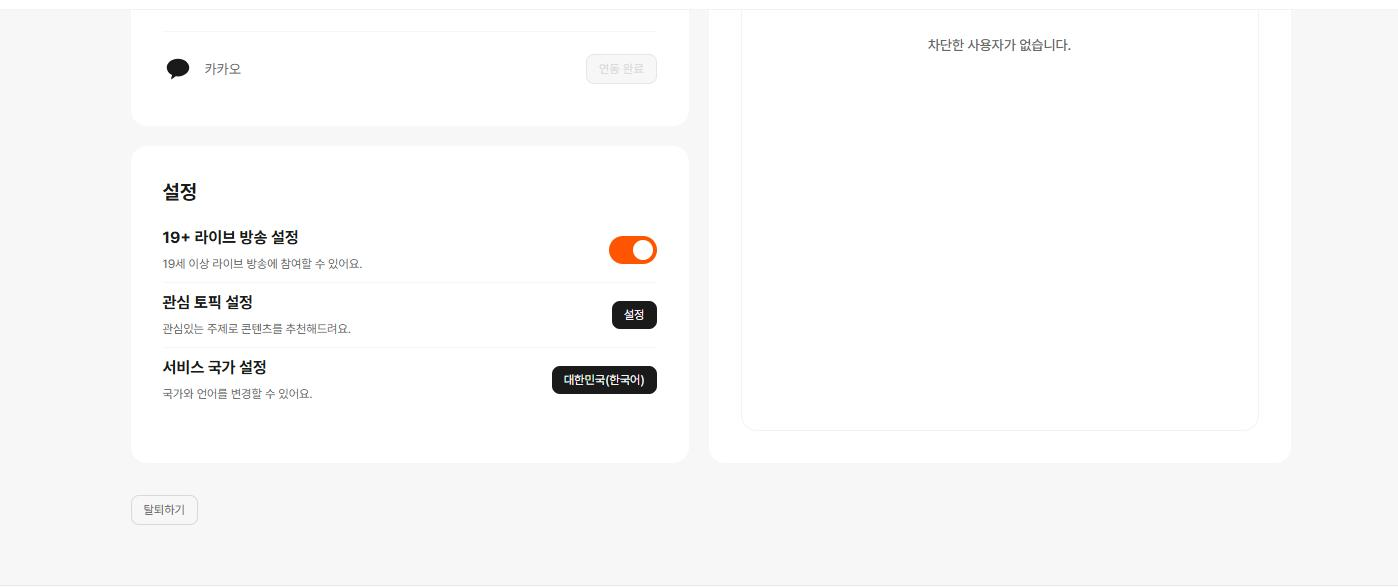button: (550, 366, 660, 398), (584, 51, 659, 87), (130, 492, 201, 527), (609, 235, 659, 266), (611, 300, 656, 328)
